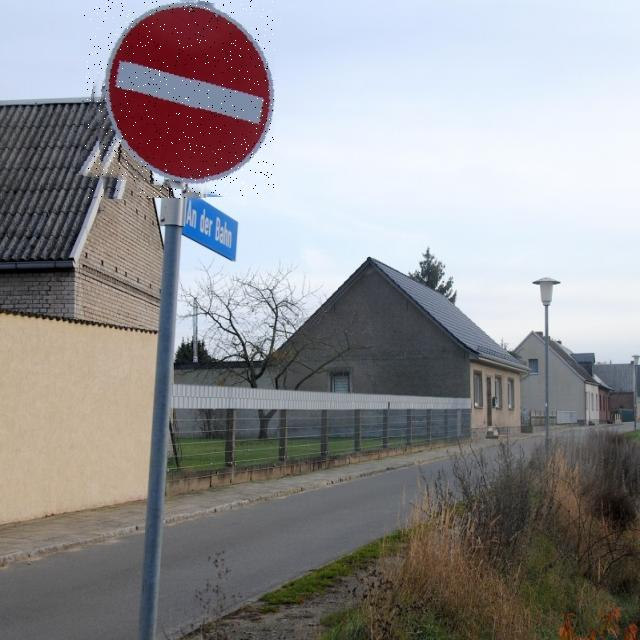no entry: (84, 0, 275, 199)
